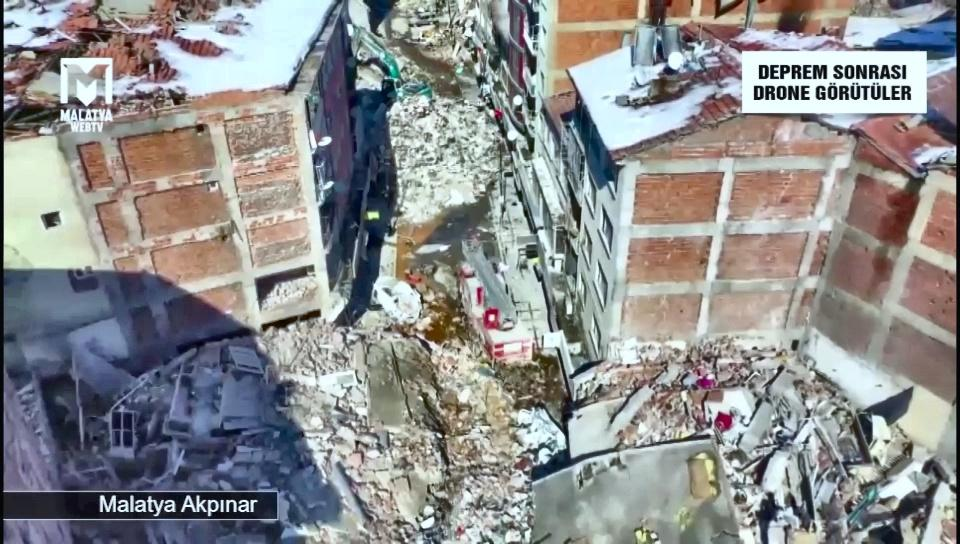kapali: (391, 264, 569, 543), (384, 95, 526, 242), (379, 1, 462, 65)
